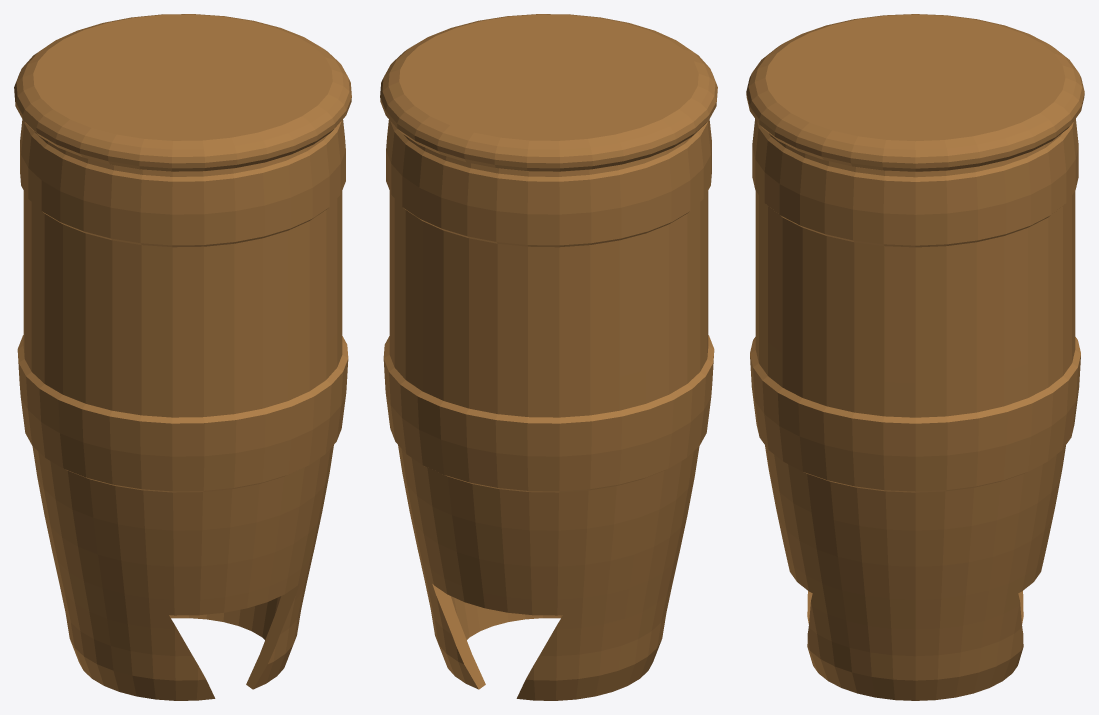
Rendered from drum.dae.
The picture shows the model from 3 angles, left to right: view 1: azimuth 30°, elevation 25°; view 2: azimuth 150°, elevation 25°; view 3: azimuth 270°, elevation 25°; orthographic projection.
Parts seen in each view (by area): view 1: Cylinder; view 2: Cylinder; view 3: Cylinder.
Part boxes in pixels (left/top/right/bottom): Cylinder: left=14, top=14, right=351, bottom=700; Cylinder: left=380, top=14, right=717, bottom=700; Cylinder: left=746, top=14, right=1084, bottom=700.
Size of the model in its own units: 2.12 by 4 by 2.12.
